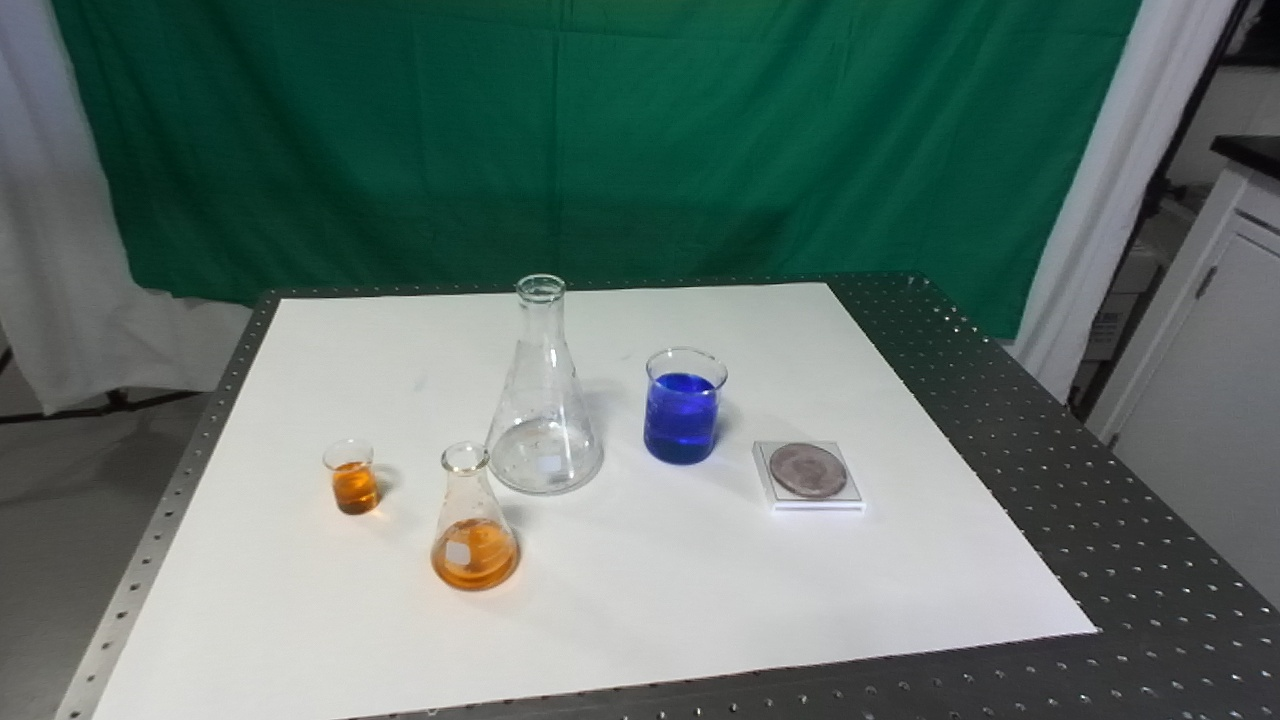glass: (479, 270, 607, 503), (421, 437, 523, 595), (638, 343, 731, 468), (321, 433, 380, 522)
plate: (749, 434, 871, 518)
